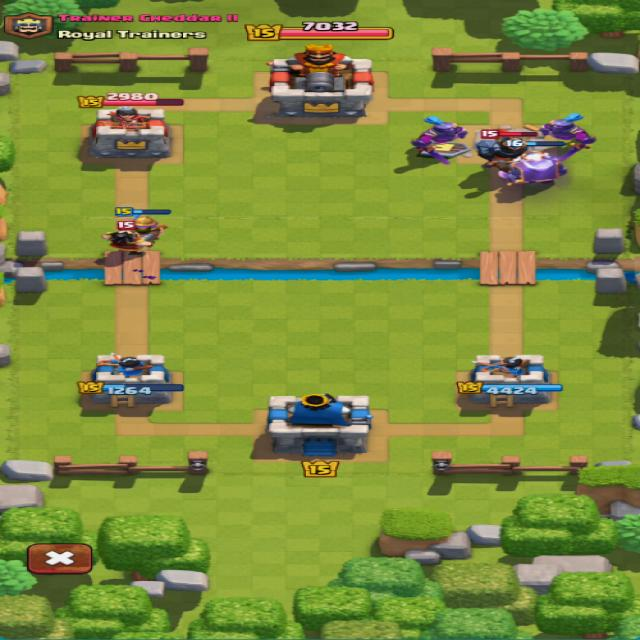Enemy-DarkPrince: (476, 137, 524, 170)
Enemy-ElectroWizard: (102, 231, 151, 254)
Enemy-KingTower: (269, 44, 372, 116)
Enemy-PrincessTower: (90, 107, 170, 161)
